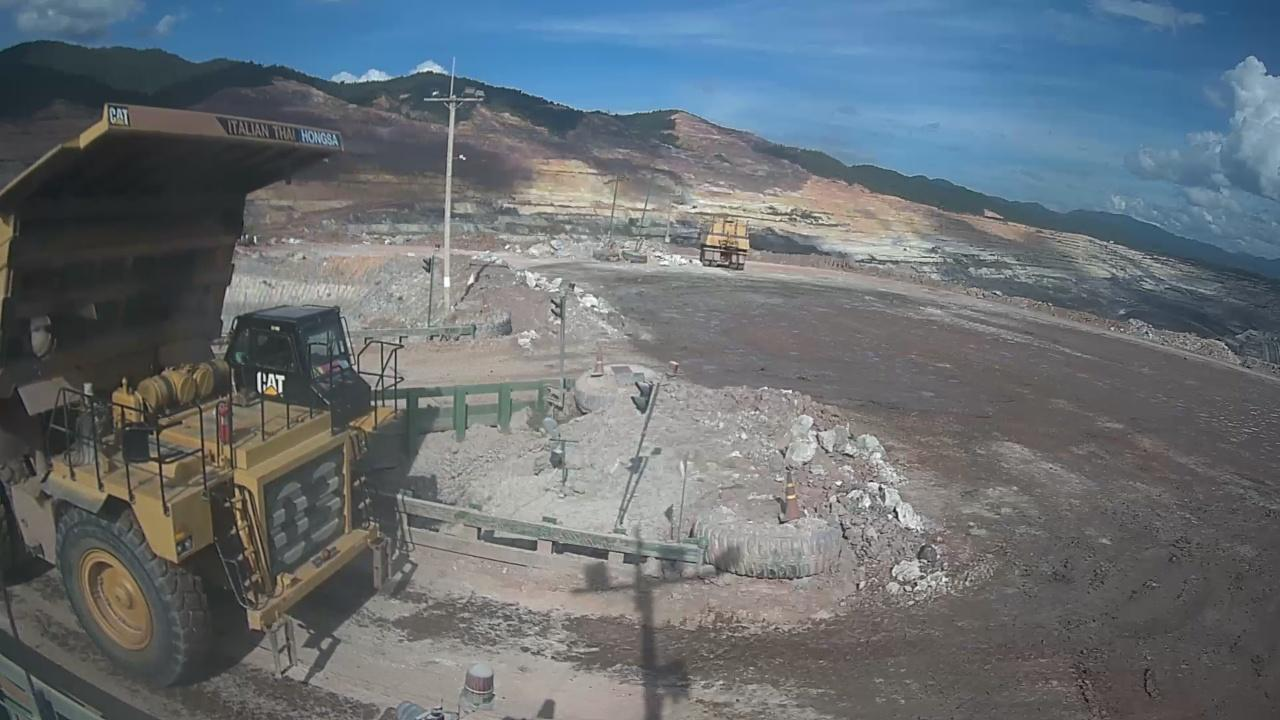dumping_soil: (1, 91, 420, 679)
front_number: (267, 460, 350, 557)
